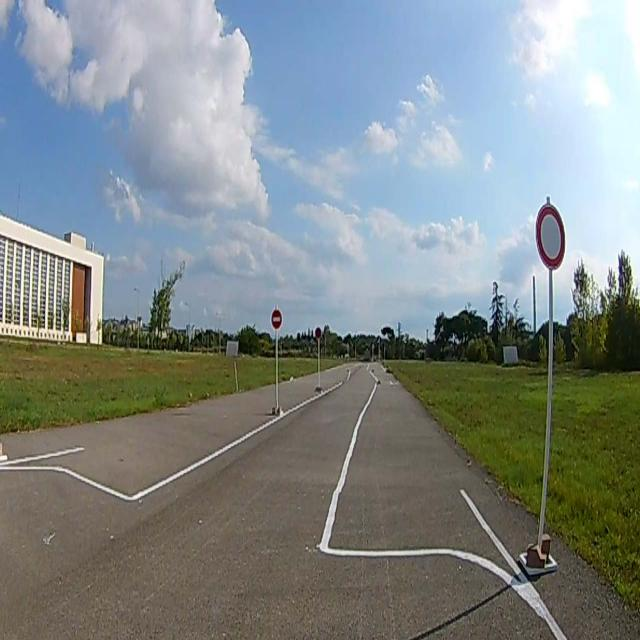girisyok: (272, 309, 282, 330)
